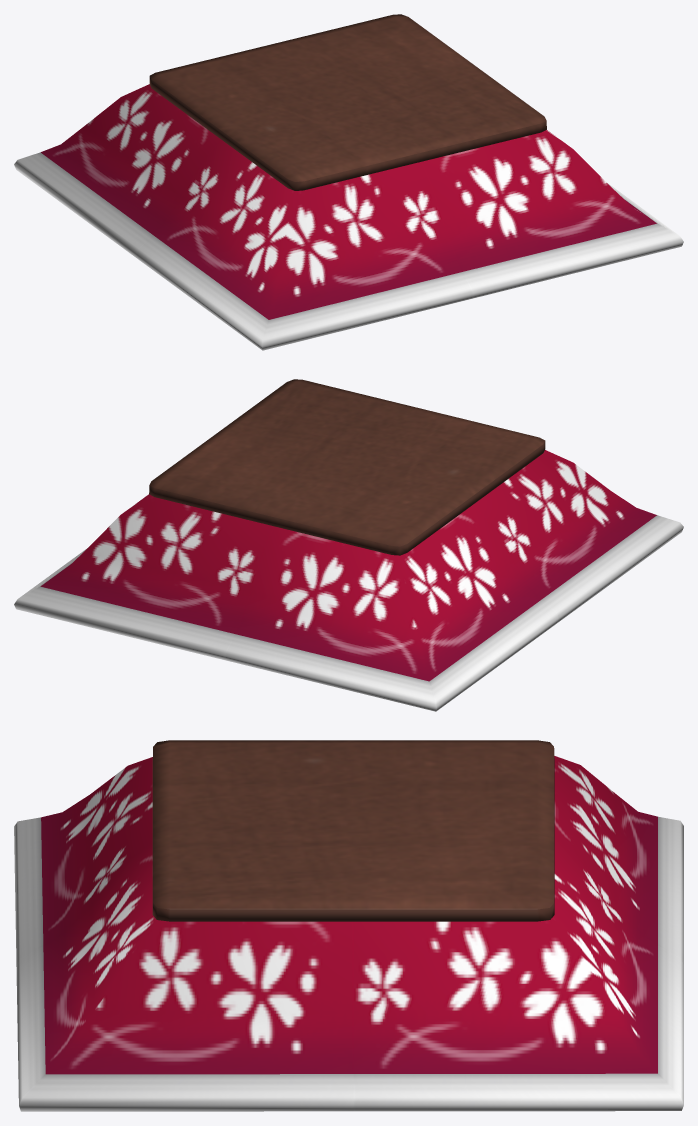
File: kotatsu_red.fbx
3 renders of one model, top to bottom at view 1: azimuth 30°, elevation 25°; view 2: azimuth 150°, elevation 25°; view 3: azimuth 270°, elevation 25°, orthographic. The views are drawn at different scales.
Parts seen in each view (by area): view 1: kotatsu_red; view 2: kotatsu_red; view 3: kotatsu_red.
Part boxes in pixels (box(x1,y1,x2,y2)): kotatsu_red: box(14, 14, 683, 350); kotatsu_red: box(14, 379, 683, 711); kotatsu_red: box(14, 740, 683, 1111).
Size of the model in its own units: 135 by 34.13 by 137.
